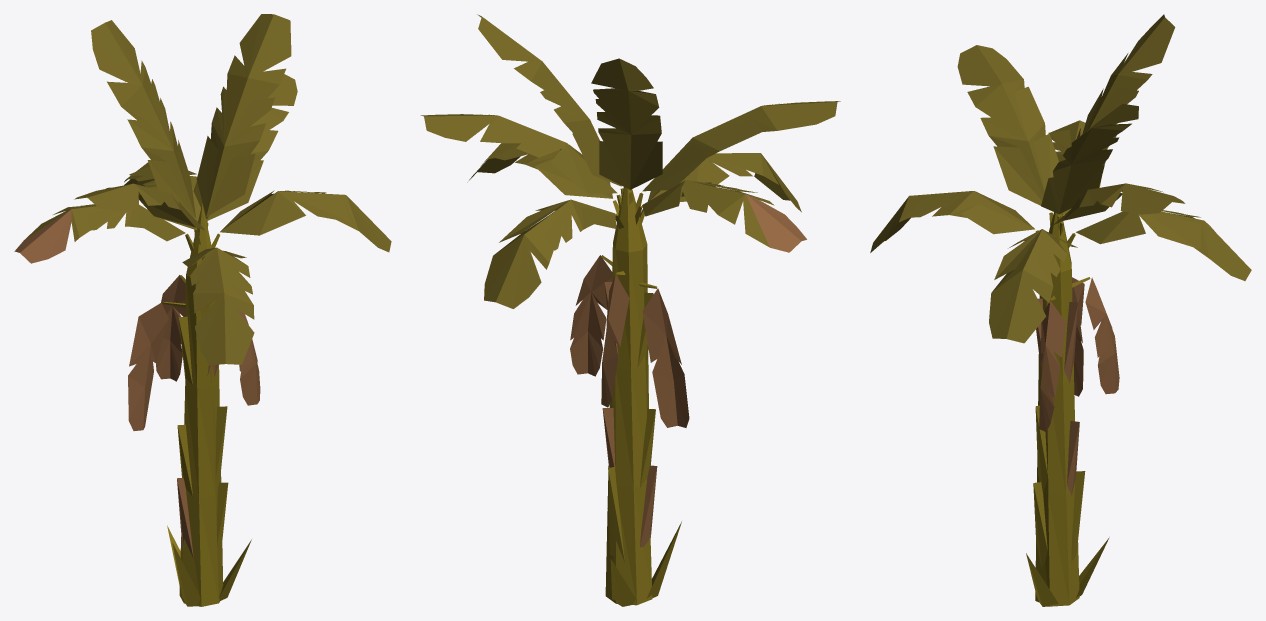
The model's file is banana-plant-978d7f.glb.
3 renders of one model, left to right at view 1: azimuth 30°, elevation 25°; view 2: azimuth 150°, elevation 25°; view 3: azimuth 270°, elevation 25°, orthographic. The views are drawn at different scales.
Visible parts, largest first — view 1: banana-plant-978d7f; view 2: banana-plant-978d7f; view 3: banana-plant-978d7f.
Boxes of the visible parts, <box> form: banana-plant-978d7f: <box>14,14,391,606</box>; banana-plant-978d7f: <box>420,14,840,606</box>; banana-plant-978d7f: <box>870,14,1251,606</box>.
Size of the model in its own units: 3.8 by 5.9 by 3.65.
